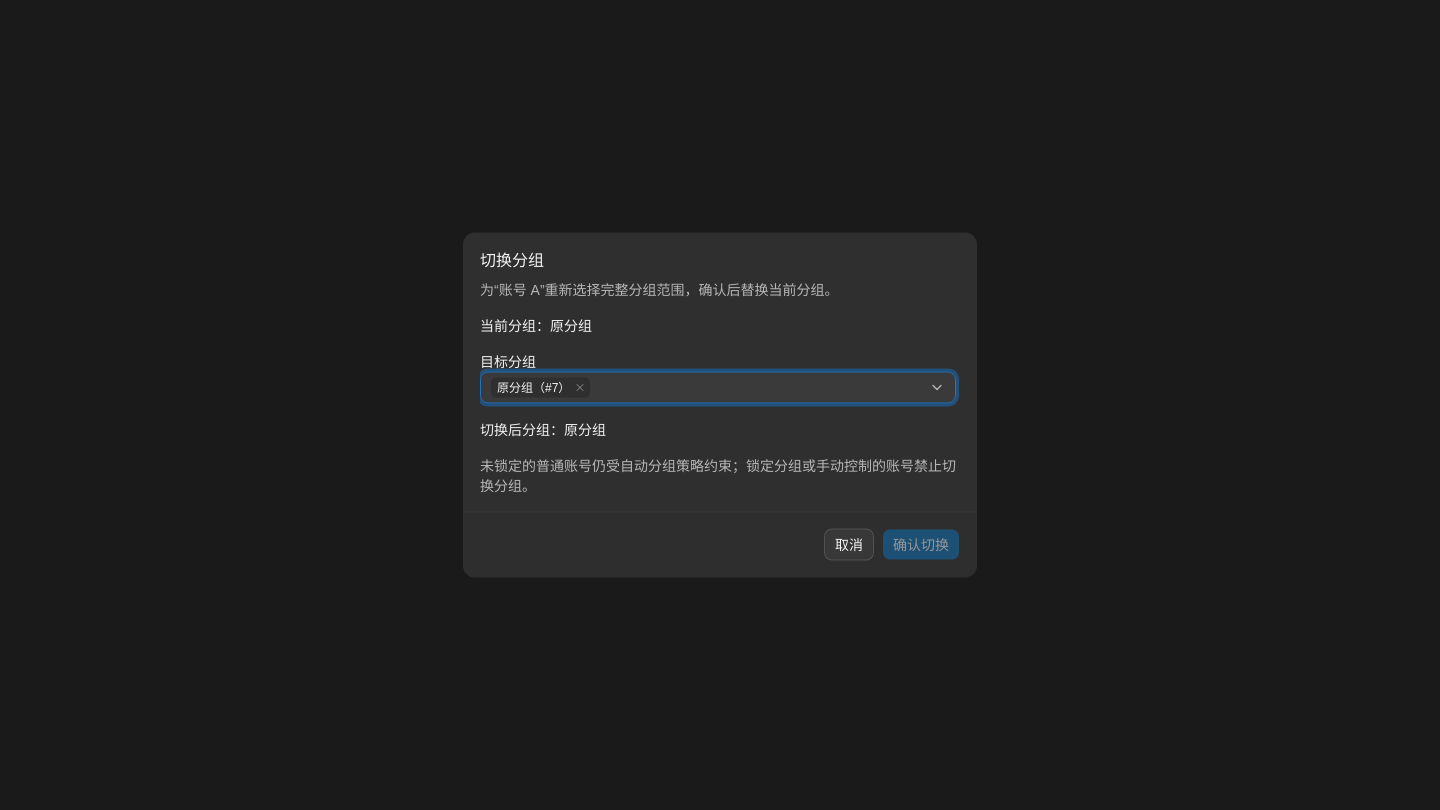
it: 刷新移除已选目标组时保留草稿并标记无效，移除无效选择后可提交
The image size is (1440, 810).
Click the dropdown named "目标分组" at (718, 388), box [480,372,956,404]
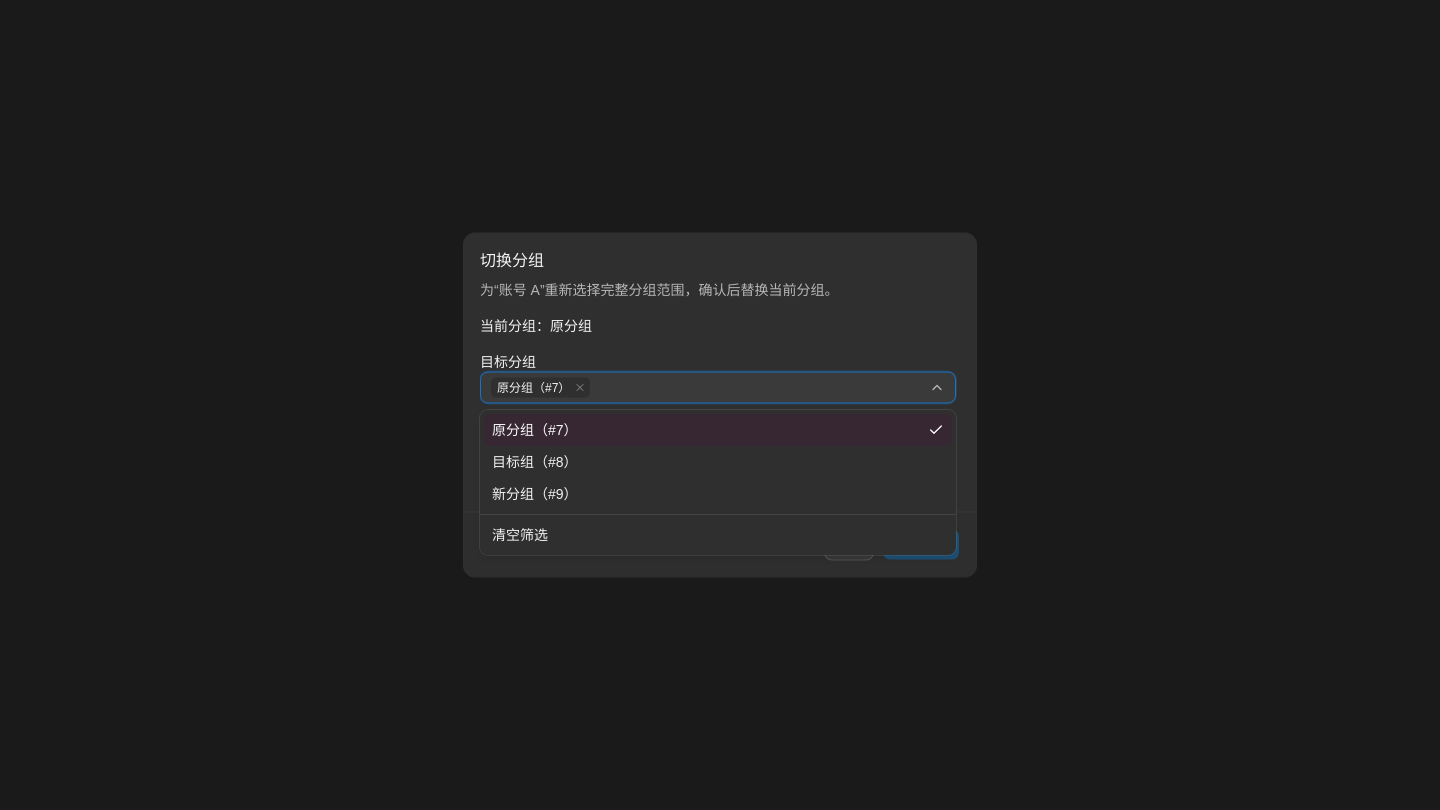
Click the option "目标组（#8）" at (535, 462), box [492,454,578,470]
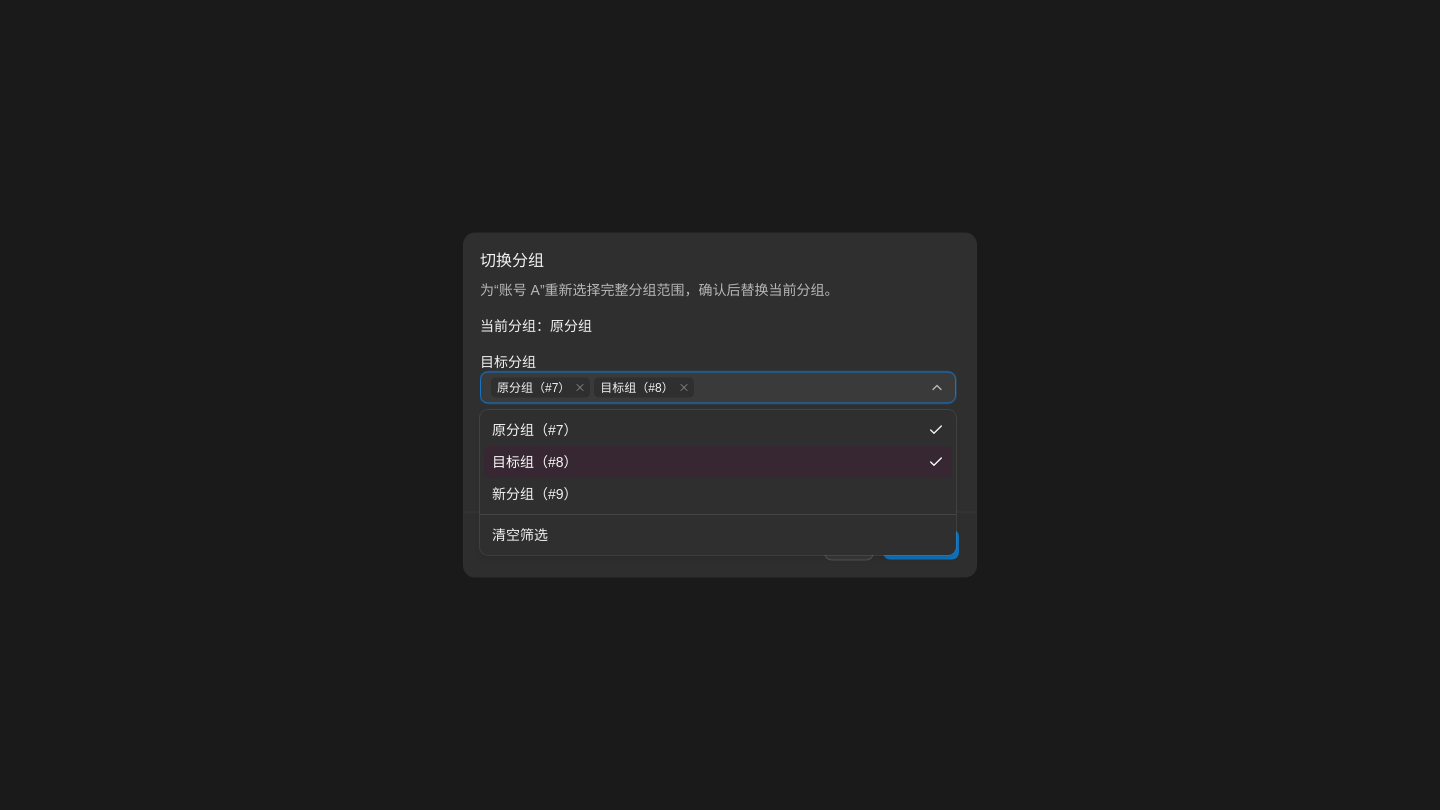
Press Escape
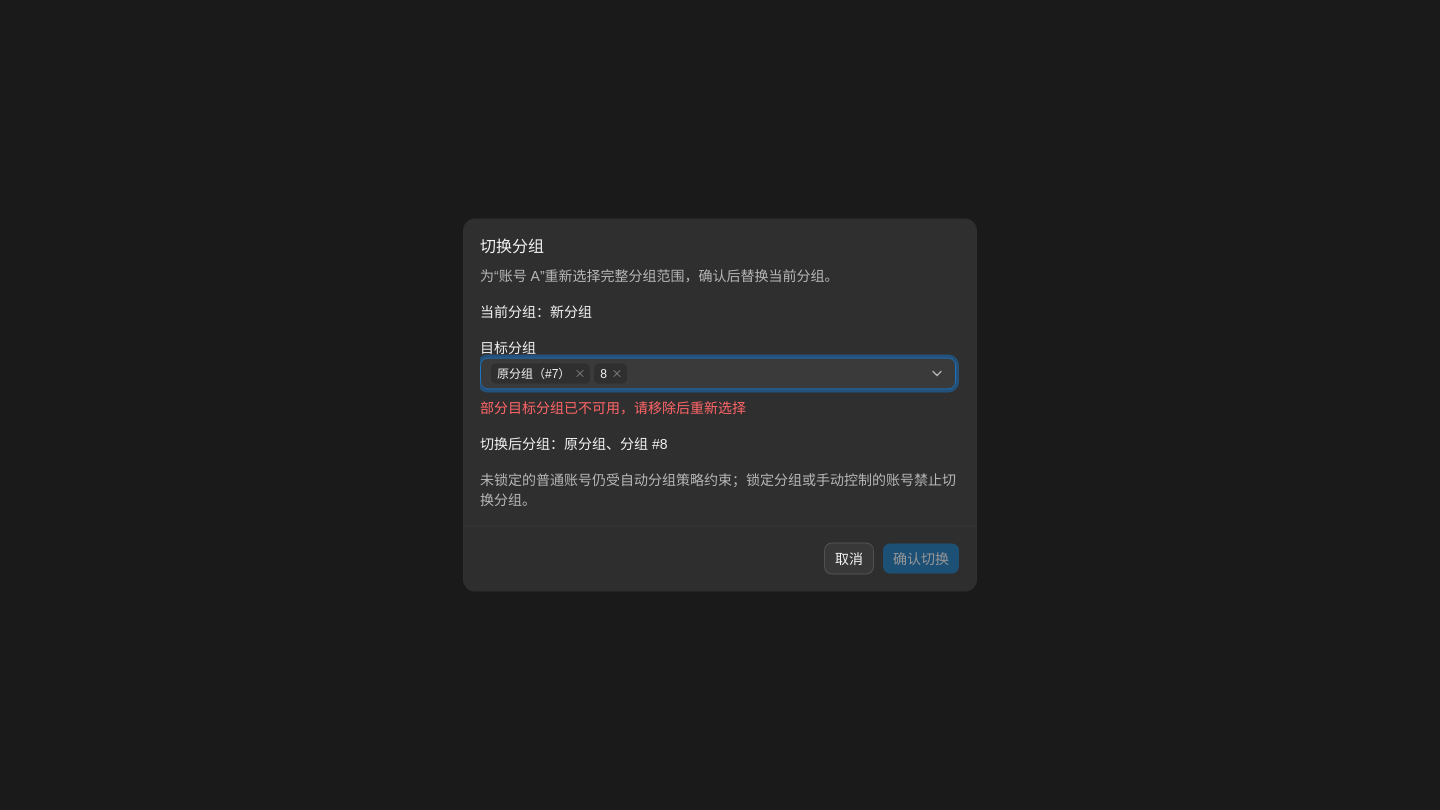
Now the button "确认切换" is disabled, box [882,542,960,574]
Now the text "部分目标分组已不可用，请移除后重新选择" is shown, box [480,400,746,416]
Click the dropdown named "目标分组" at (718, 374), box [480,358,956,390]
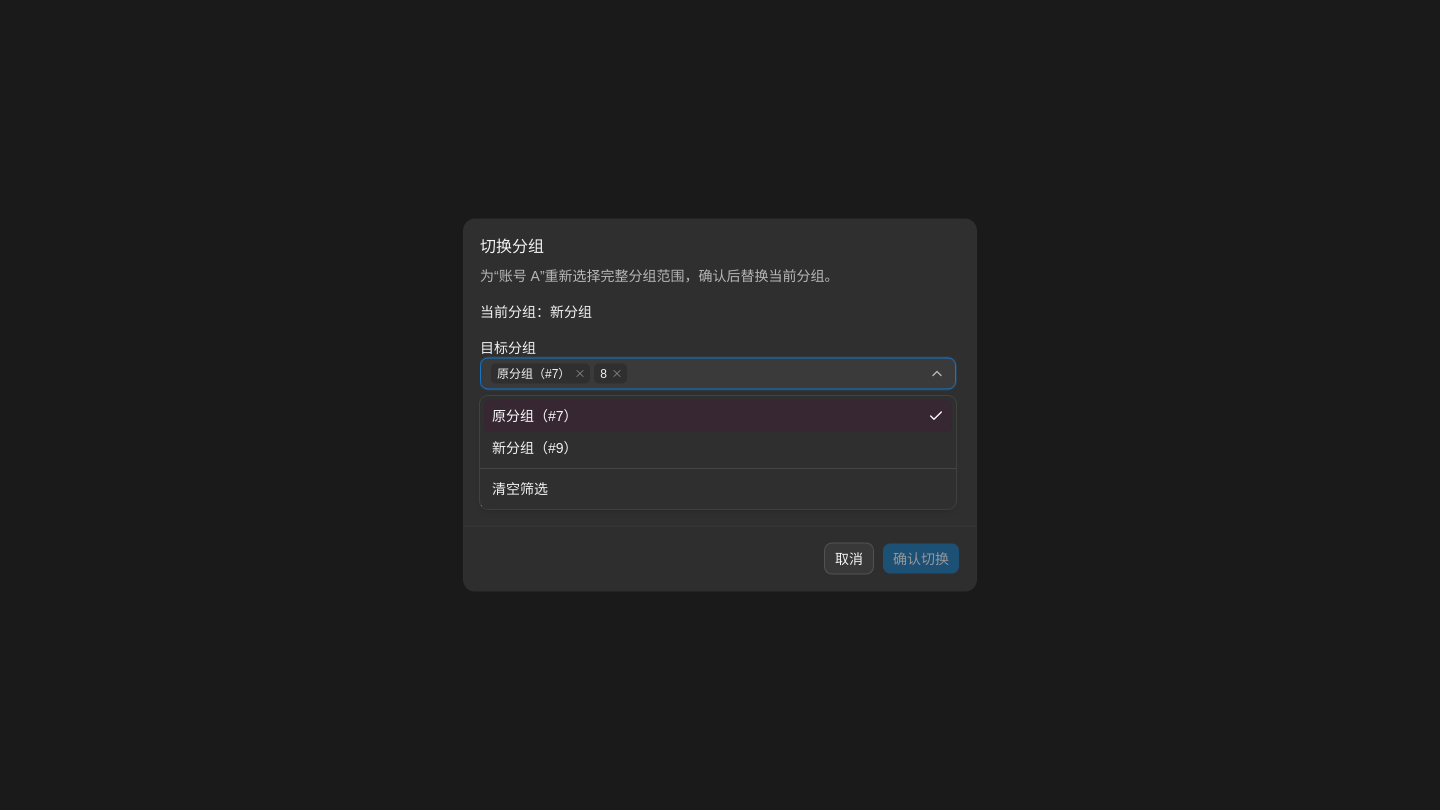
Press Escape
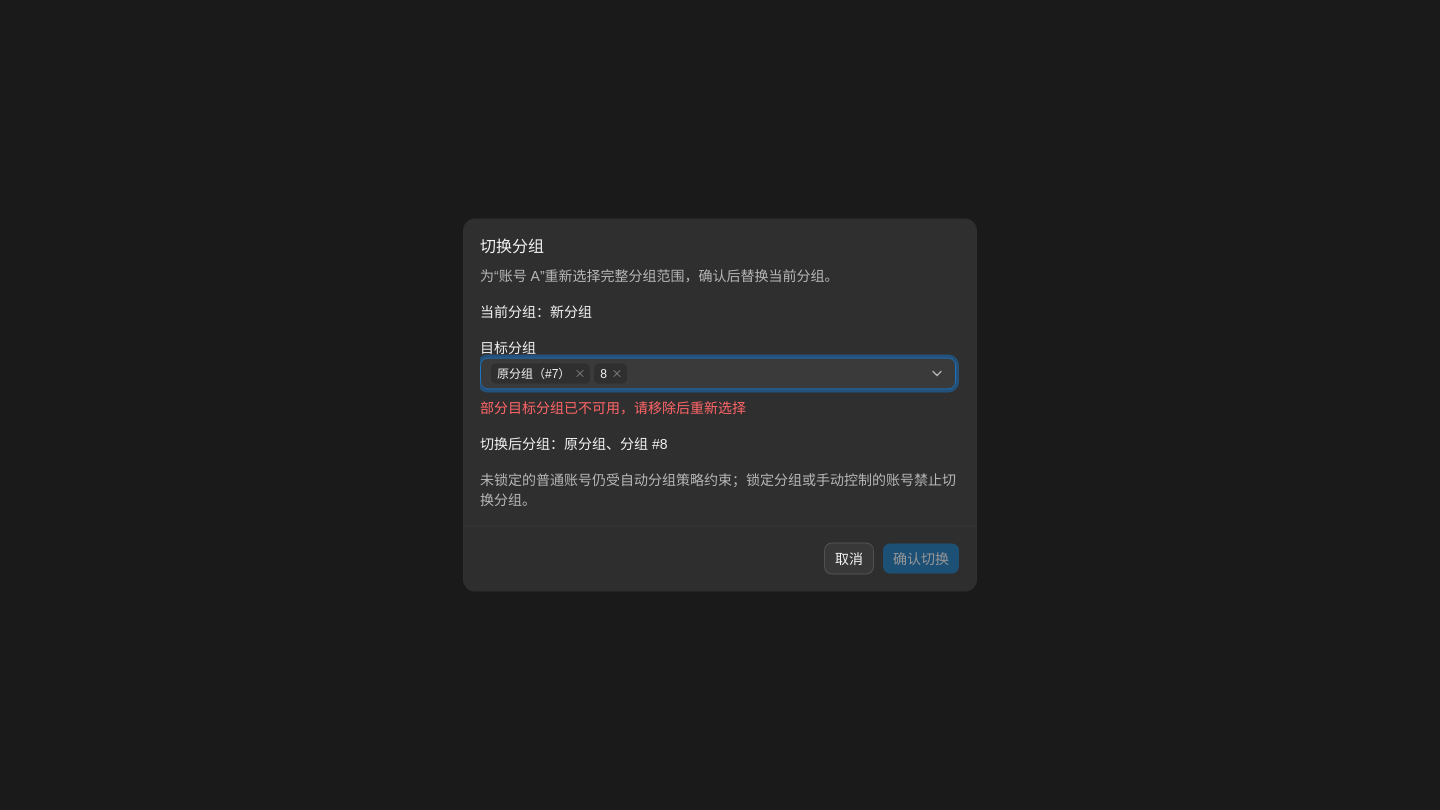
Click the 2nd button named "移除" at (617, 374), box [607,364,627,384]
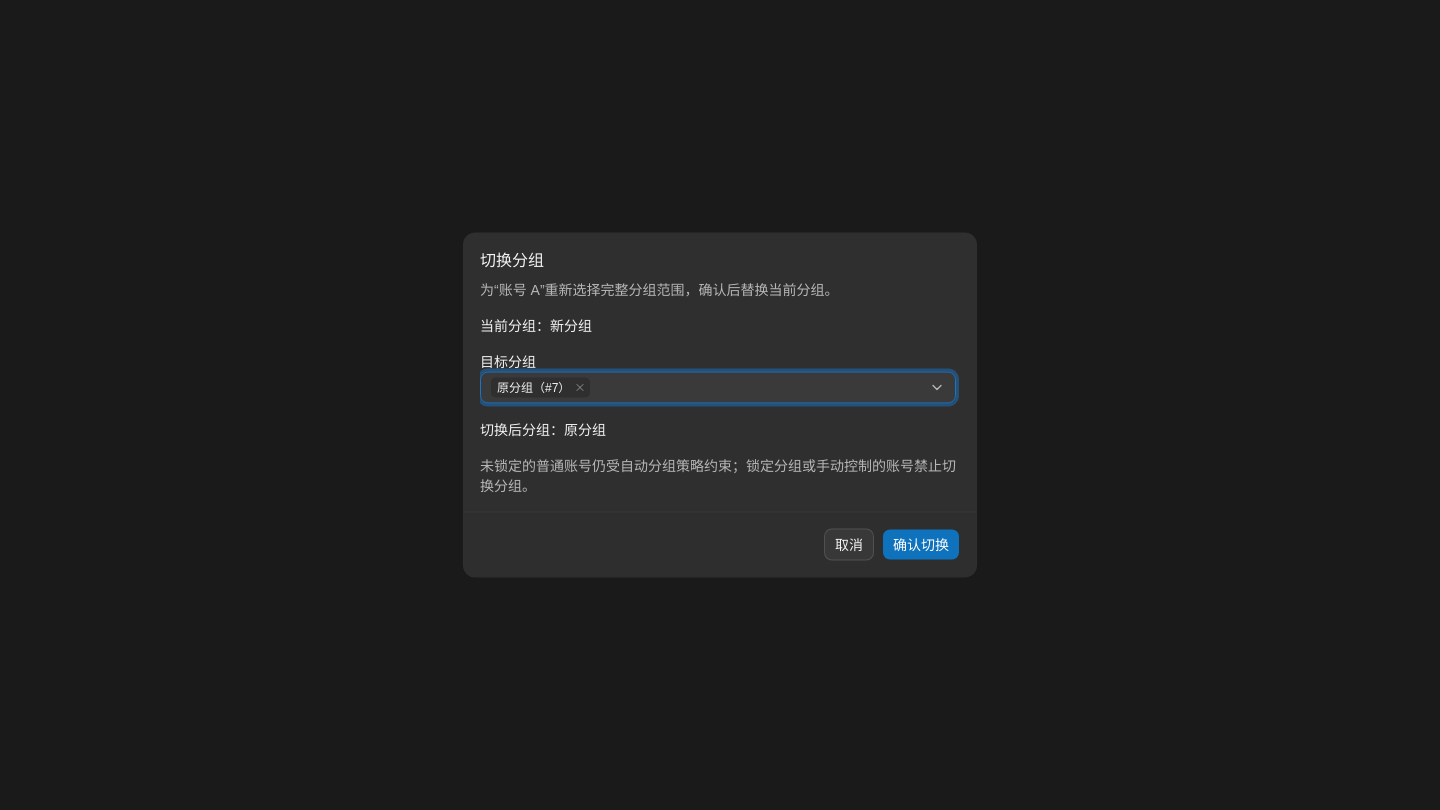
Now the button "确认切换" is enabled, box [882,528,960,560]
